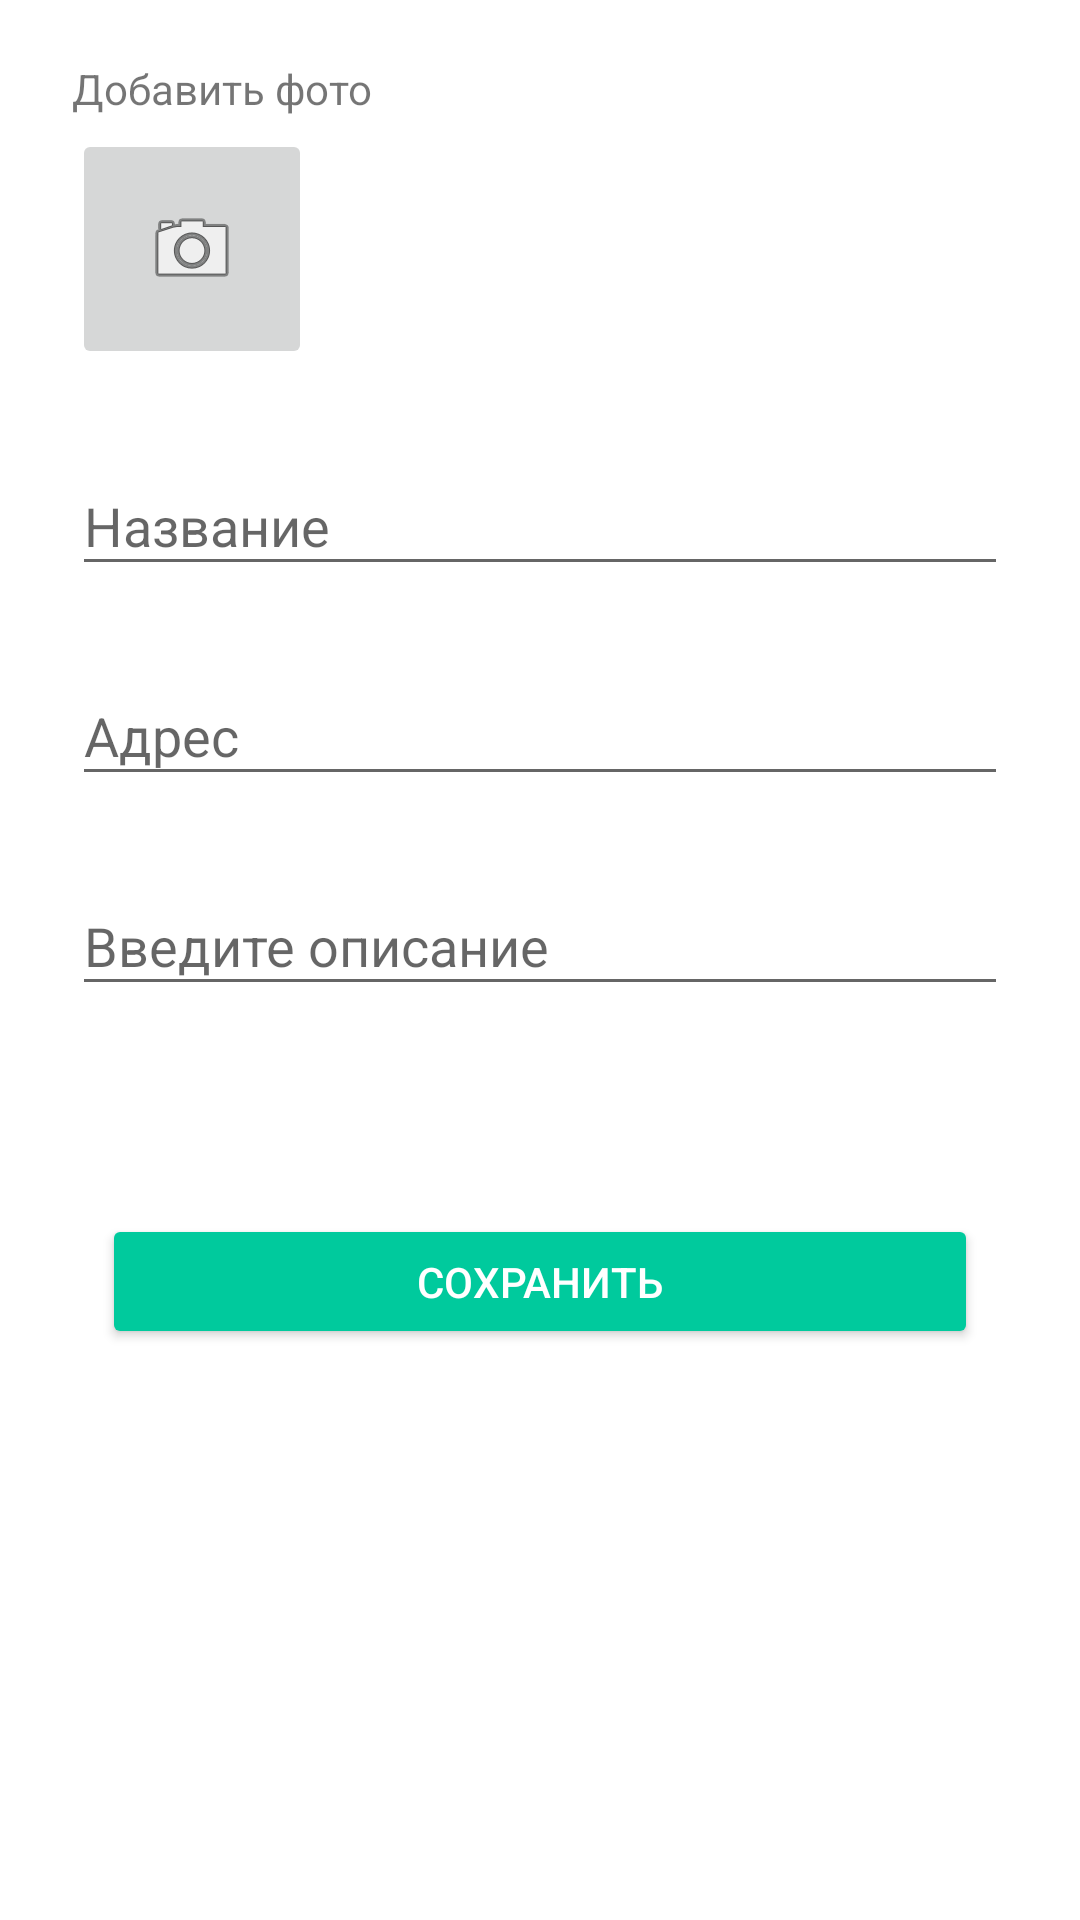

Point at icon controls on the screen. Image size 1080*1920, points as [x,y].
camera: [192,249]
